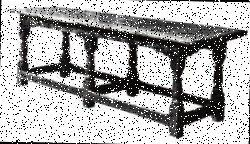Mesa: (6, 6, 249, 143)
